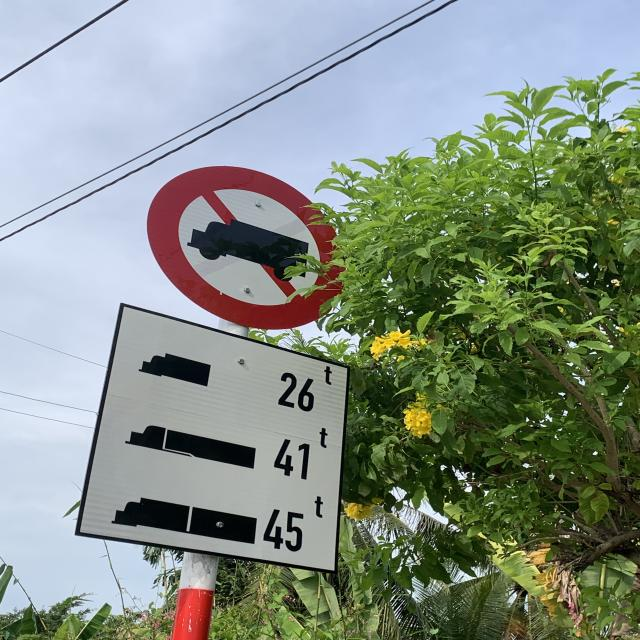Cam_Xe_Tai: (146, 163, 346, 330)
